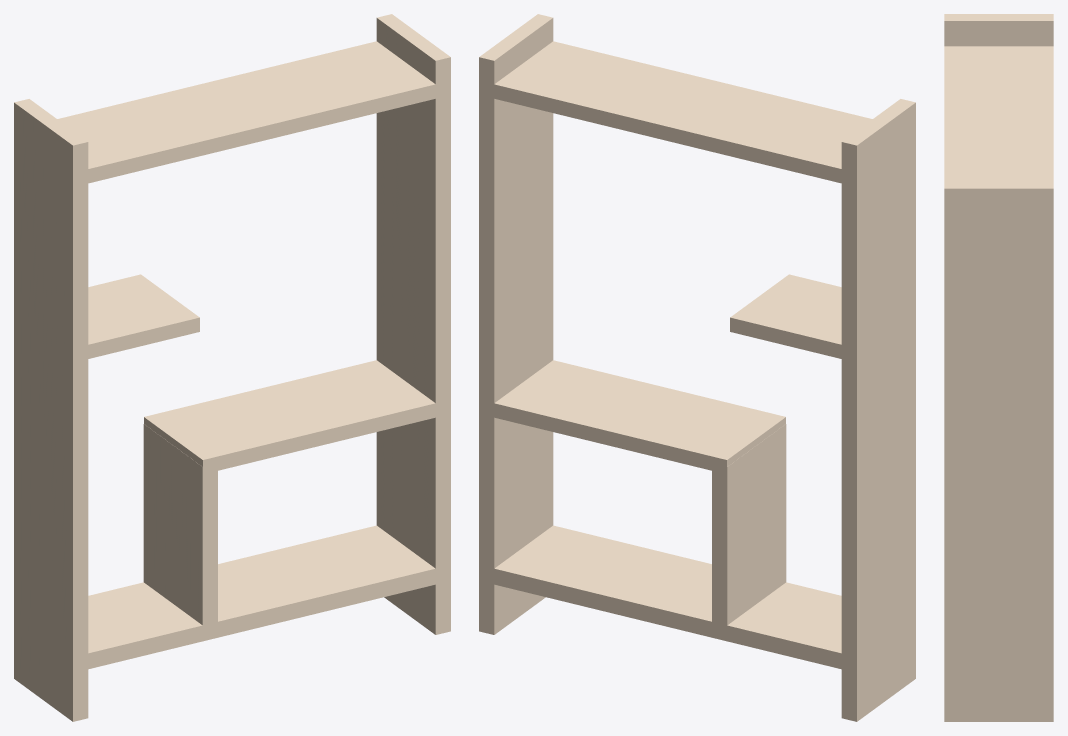
3 views of the same model, side by side, from view 1: azimuth 30°, elevation 25°; view 2: azimuth 150°, elevation 25°; view 3: azimuth 270°, elevation 25° (orthographic). The views are drawn at different scales.
Visible parts, largest first — view 1: Wall__5_, Wall__4_, Wall_8__6_, Wall_8__2_, Wall_8__25_, Wall__6_, Wall_8__26_; view 2: Wall__5_, Wall__4_, Wall_8__6_, Wall_8__2_, Wall_8__25_, Wall__6_, Wall_8__26_; view 3: Wall__4_, Wall_8__6_, Wall__5_.
Boxes of the visible parts, x1,y1,x2,y2 form: Wall__5_: (14,99,88,721); Wall__4_: (376,14,450,634); Wall_8__6_: (57,41,448,186); Wall_8__2_: (80,525,446,670); Wall_8__25_: (144,360,442,474); Wall__6_: (143,424,217,625); Wall_8__26_: (82,274,199,360); Wall__5_: (841,99,915,721); Wall__4_: (479,14,553,634); Wall_8__6_: (481,41,872,186); Wall_8__2_: (483,525,849,670); Wall_8__25_: (487,360,785,474); Wall__6_: (712,424,786,625); Wall_8__26_: (730,274,847,360); Wall__4_: (944,181,1053,721); Wall_8__6_: (944,46,1053,181); Wall__5_: (944,14,1053,46).
Size of the model in its own units: 397 by 580 by 107.
